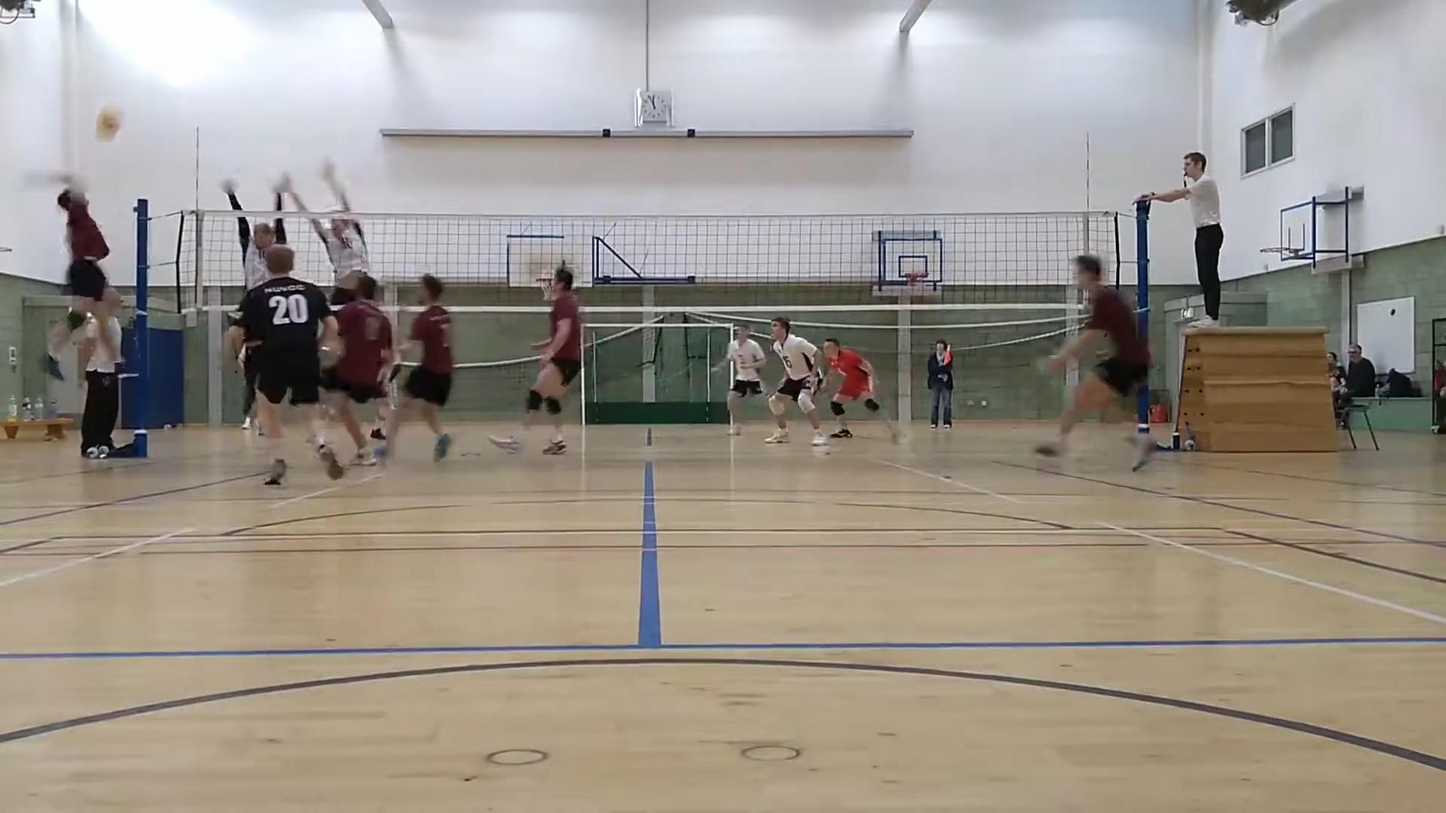attacco: (18, 143, 123, 384)
muro: (280, 151, 378, 310), (218, 167, 290, 302)
